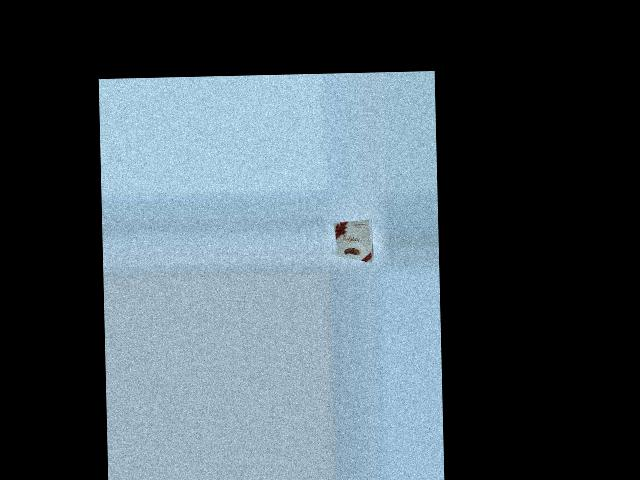chocolate: (332, 220, 382, 265)
